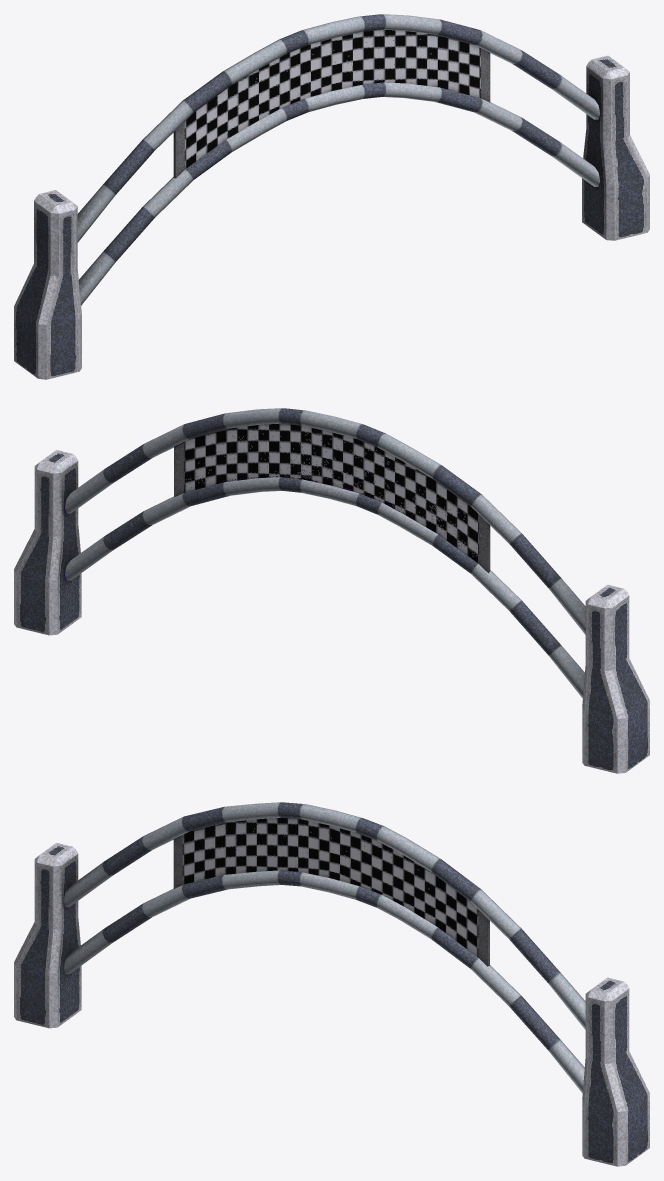
File: Goal.gltf
The picture shows the model from 3 angles, top to bottom: view 1: azimuth 30°, elevation 25°; view 2: azimuth 150°, elevation 25°; view 3: azimuth 330°, elevation 25°; orthographic projection.
Parts seen in each view (by area): view 1: Goal; view 2: Goal; view 3: Goal.
Part boxes in pixels (bbox=[...]): Goal: bbox=[14, 14, 649, 379]; Goal: bbox=[14, 408, 649, 773]; Goal: bbox=[14, 802, 649, 1166].
Size of the model in its own units: 10.72 by 4.57 by 0.9287.
Materials: 1 (1 with a texture image).
